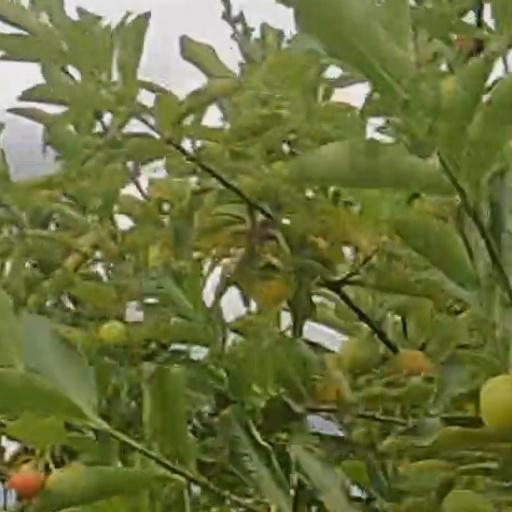acerola_verde: (481, 374, 511, 430)
acerola_vermelha: (11, 468, 43, 499)
